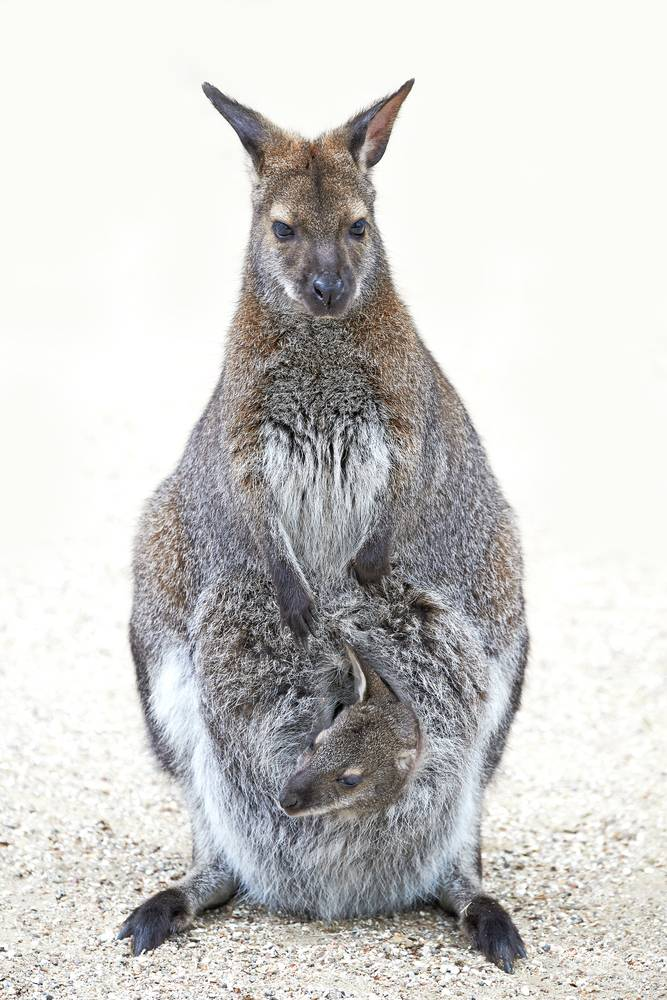kangaroo: (109, 63, 544, 980)
